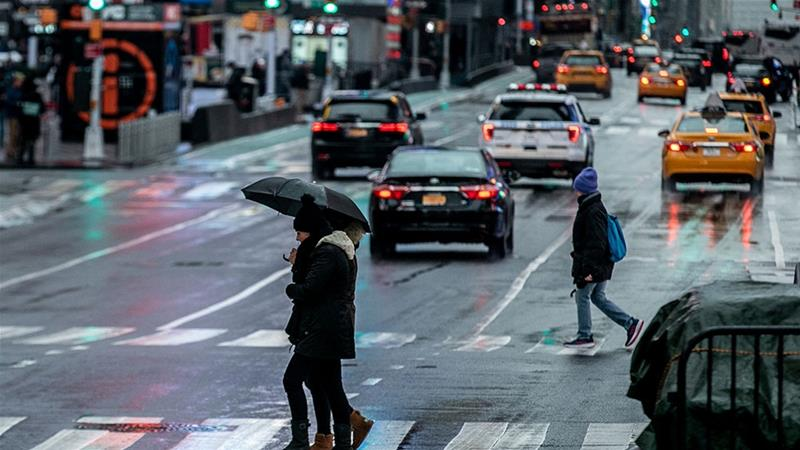pedestrian: (246, 189, 371, 450), (550, 160, 639, 364)
